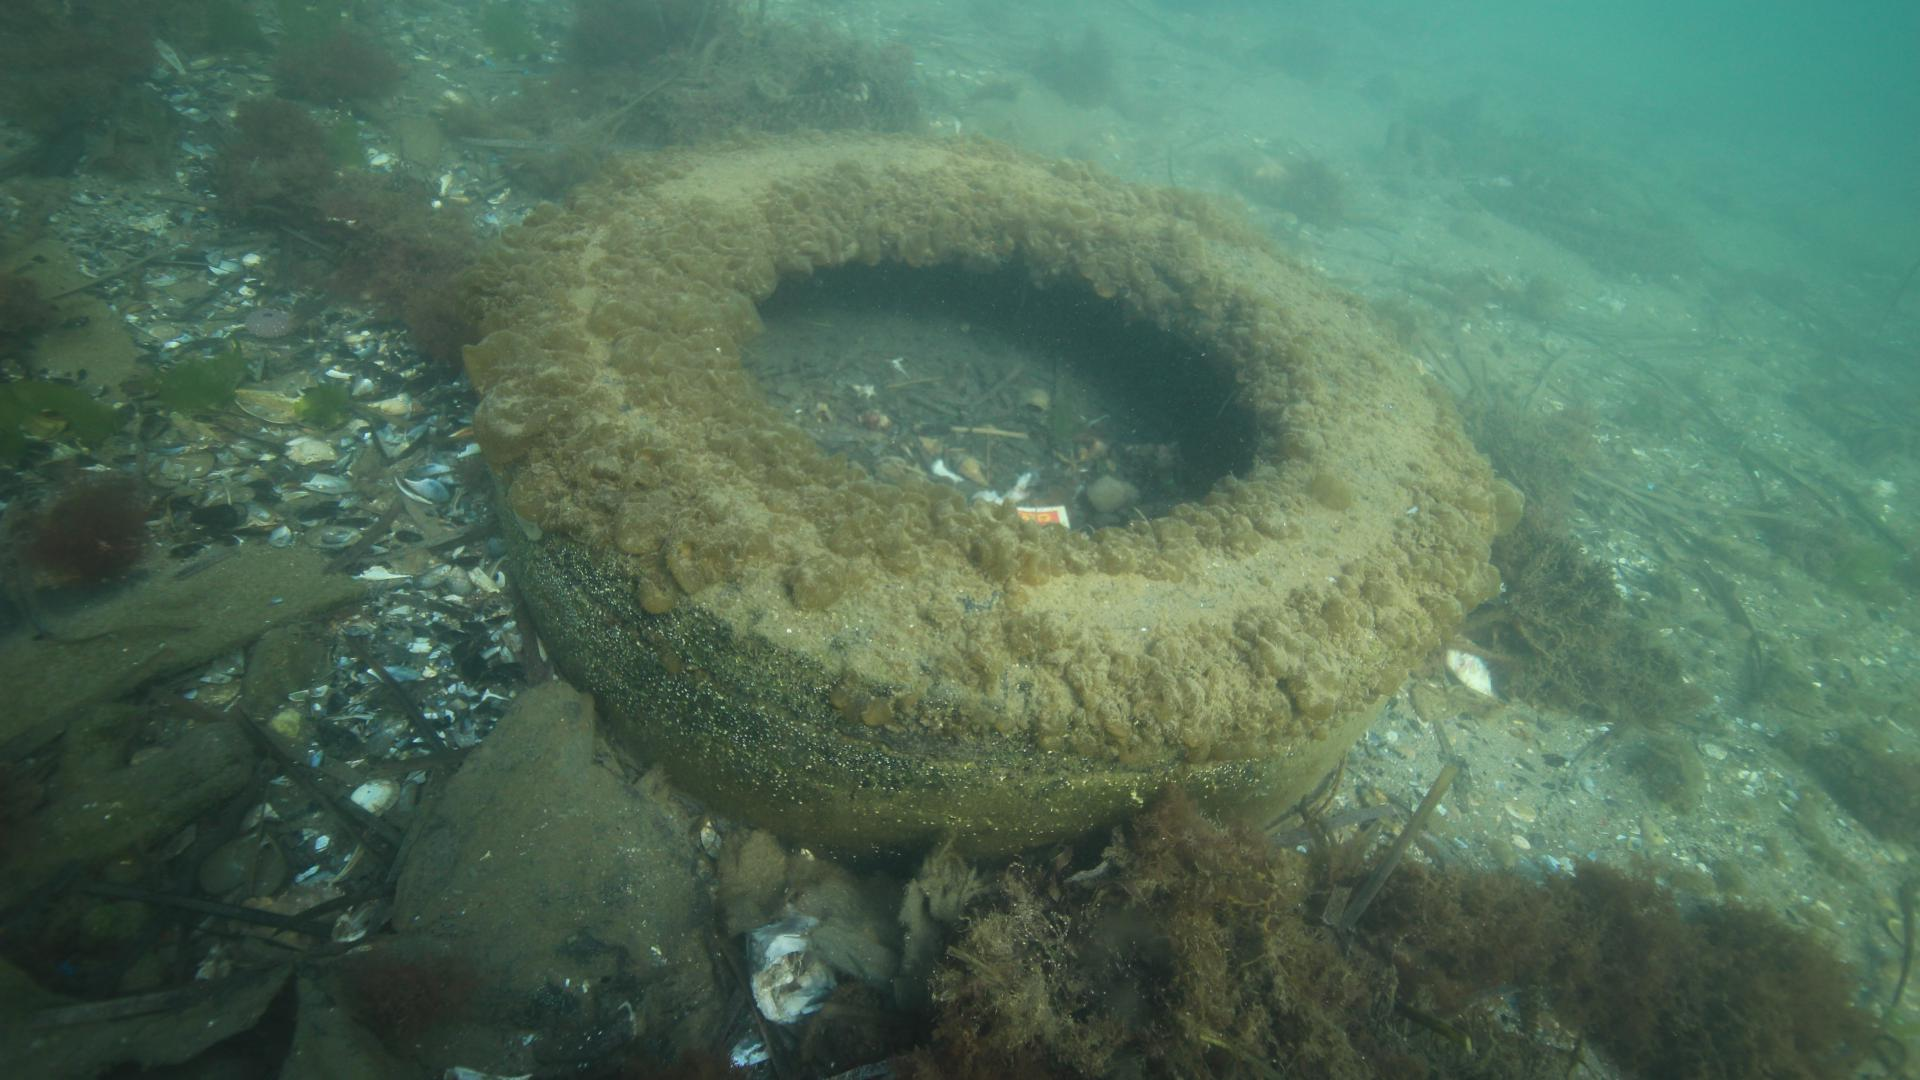tire: (492, 124, 1494, 852)
